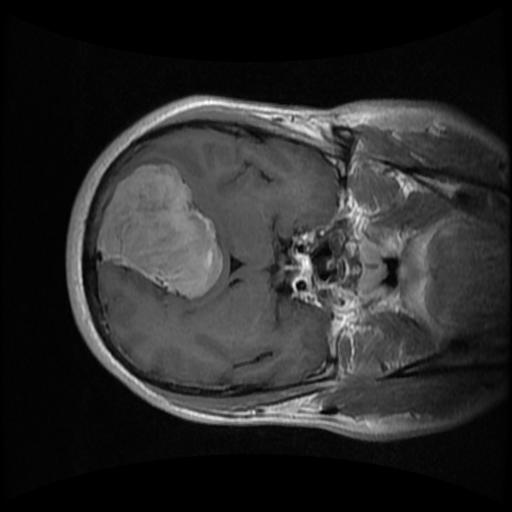meningioma: (95, 163, 224, 299)
